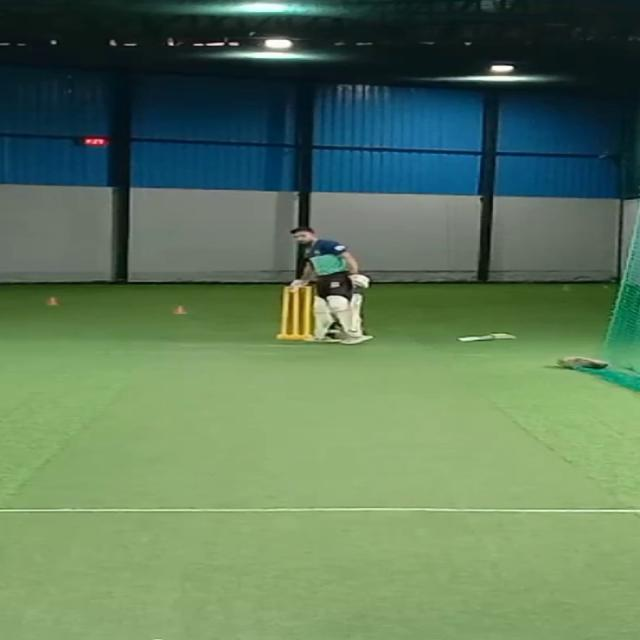stump: (275, 281, 315, 341)
